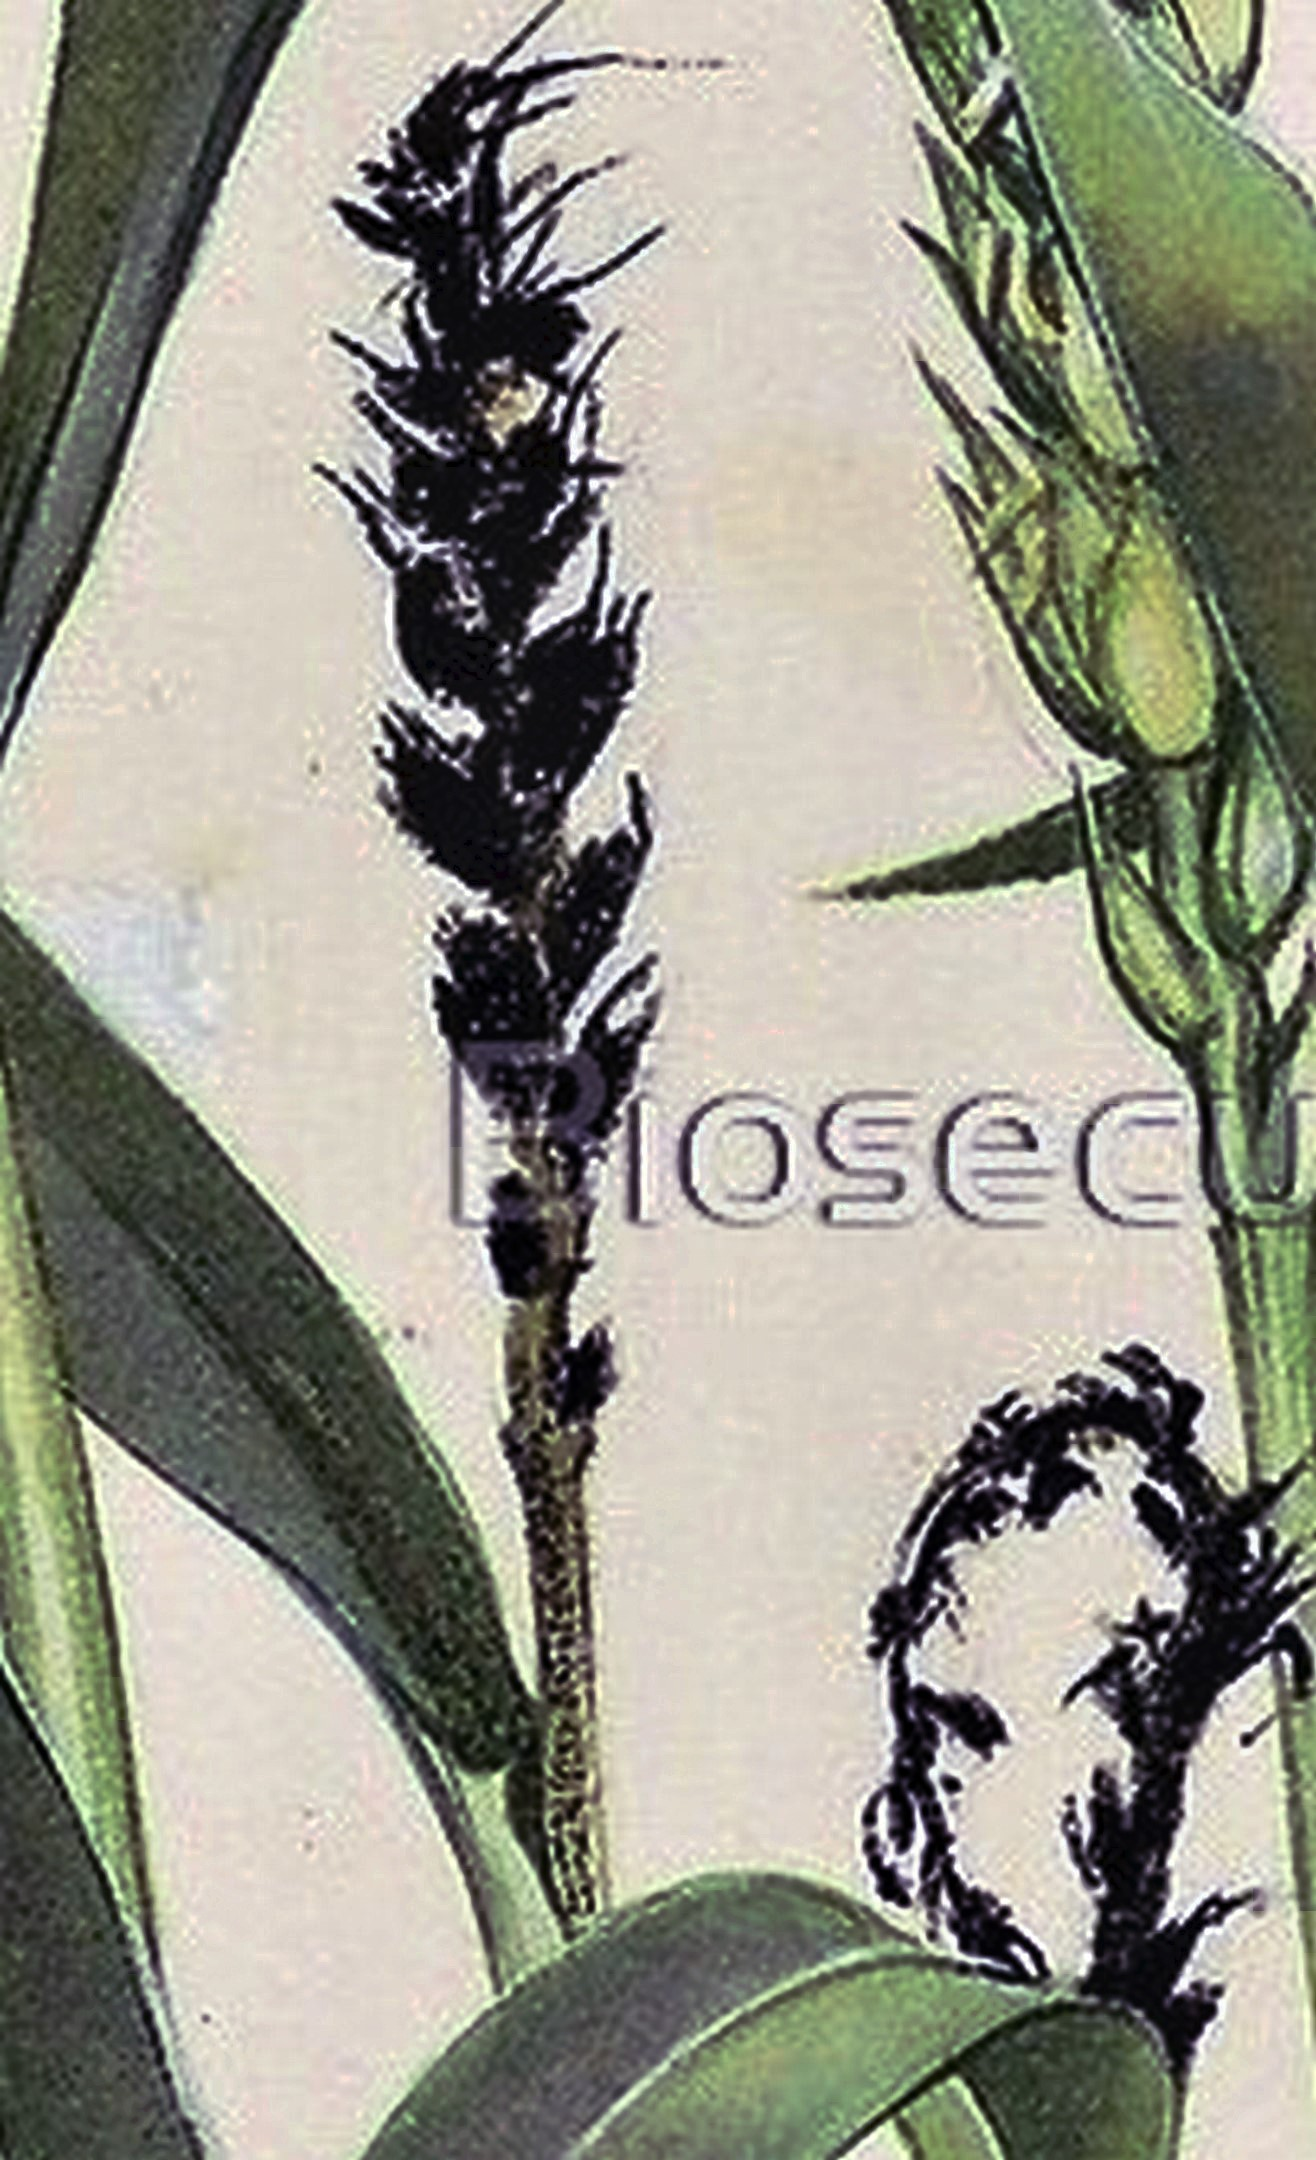Wheat Loose Smut: (299, 8, 787, 1325)
